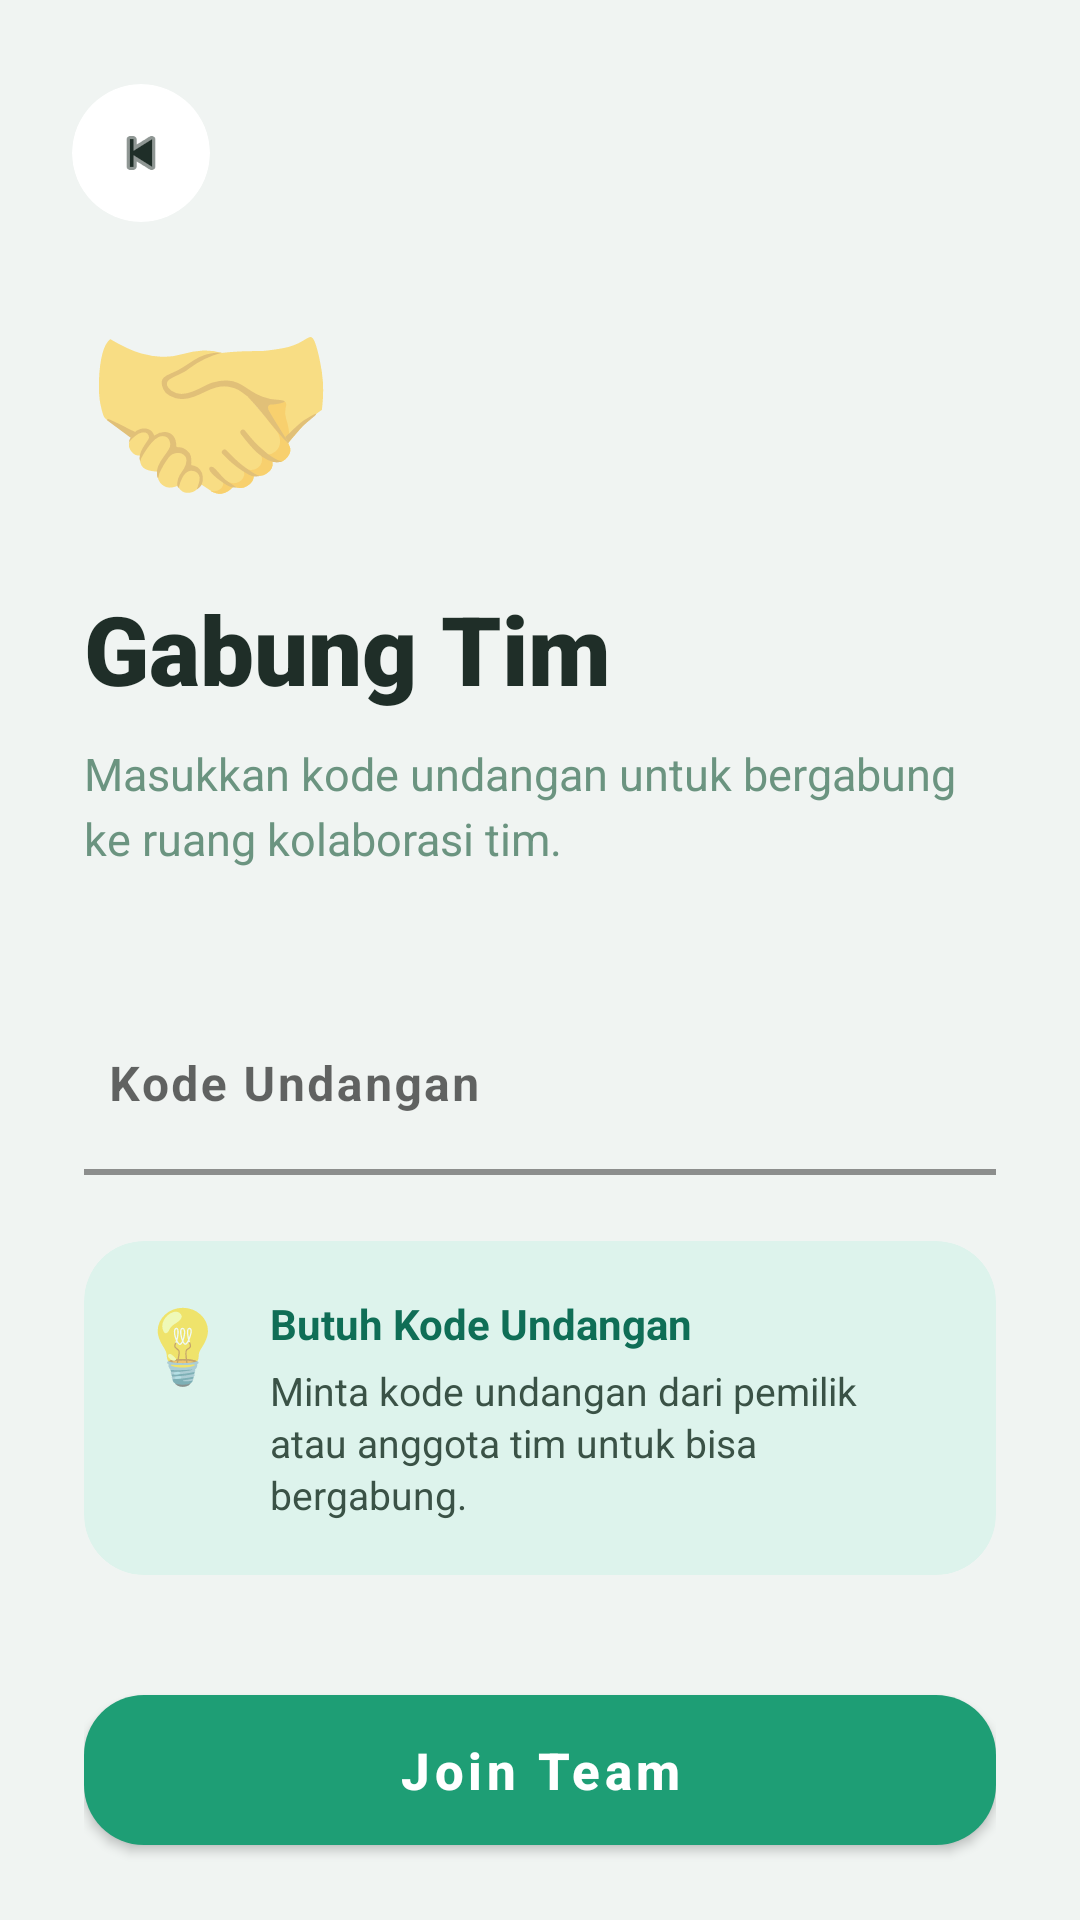

Locate icon controls on the screen. Image size 1080*1920, boxes as {"x1": x1, "y1": y1, "x2": x2, "y2": y2}.
previous: {"x1": 126, "y1": 136, "x2": 156, "y2": 170}
